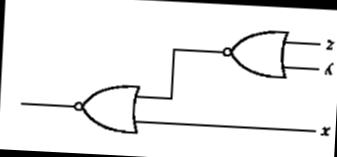nor: (199, 14, 299, 86), (60, 72, 150, 142)
